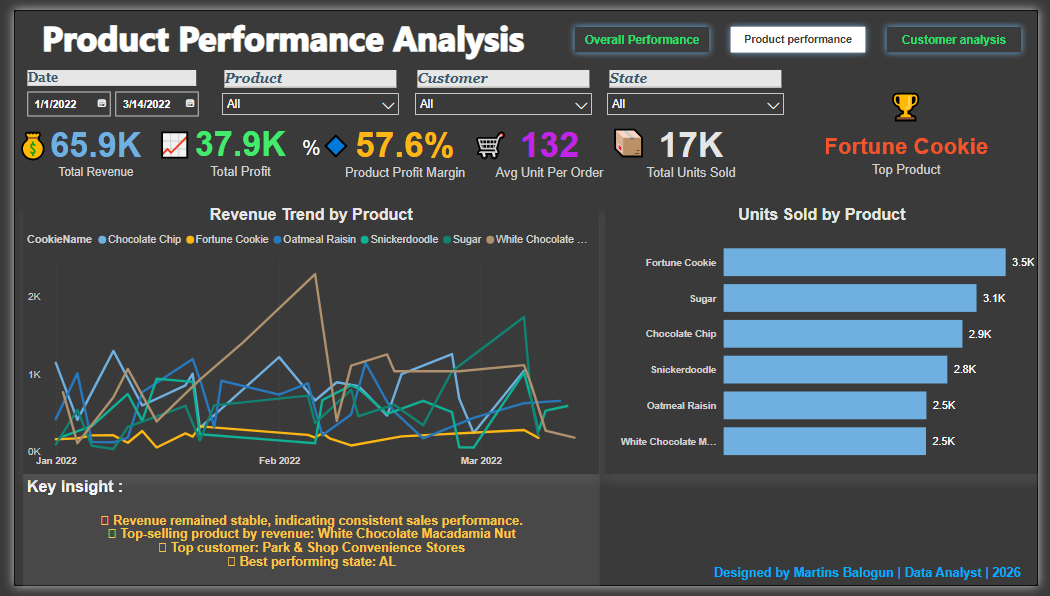

What the dashboard file says about the page in this screenshot:
{"tool":"powerbi","page":{"name":"Product performance","canvas":[1280,720],"ordinal":1},"visuals":[{"type":"textbox","box":[30.6,0,733.1,70.1],"z":0},{"type":"slicer","fields":{"Values":["Orders.OrderDate"]},"box":[3.8,70.1,237.1,151.7],"z":1000},{"type":"slicer","fields":{"Values":["Product.CookieName"]},"box":[249.9,70.1,241,70.1],"z":2000},{"type":"slicer","fields":{"Values":["Customers.CustomerName"]},"box":[490.8,70.1,241,70.1],"z":3000},{"type":"slicer","fields":{"Values":["Customers.State"]},"box":[731.8,70.1,241,70.1],"z":4000},{"type":"card","fields":{"Values":["Order_Product.Total Revenue"]},"box":[3.8,126.2,182.3,95.6],"z":5000},{"type":"card","fields":{"Values":["Order_Product.Total Profit"]},"box":[167,126.2,182.3,95.6],"z":6000},{"type":"card","fields":{"Values":["_Measures.Avg Unit Per Order"]},"box":[559.7,126.2,178.5,95.6],"z":7000},{"type":"card","fields":{"Values":["_Measures.Total Quantity Sold"]},"box":[752.2,126.2,187.4,95.6],"z":8000},{"type":"card","fields":{"Values":["_Measures.Product Profit Margin"]},"box":[362.1,126.2,197.6,95.6],"z":9000},{"type":"textbox","box":[869.5,689.7,410.5,30.6],"z":10000},{"type":"card","title":"Key Insight :","fields":{"Values":["Product.Revenue Insight"]},"box":[62.9,607.1,585.7,112.9],"z":11000},{"type":"lineChart","title":"Revenue Trend by  Product","fields":{"Y":["_Measures.Total Revenue"],"Category":["Flat File.OrderDate"],"Series":["Flat File.CookieName"]},"box":[11.5,244.8,720.3,335.3],"z":12000},{"type":"clusteredBarChart","title":"Units Sold by Product","fields":{"Category":["Flat File.CookieName"],"Y":["_Measures.Total Units Sold"]},"box":[738.2,244.8,541.8,335.3],"z":13000},{"type":"card","fields":{"Values":["_Measures.Best Selling Product"]},"box":[980.4,122.4,270.3,112.2],"z":14000},{"type":"textbox","box":[1088.8,93.1,82.9,91.8],"z":15000},{"type":"textbox","box":[0,141.5,82.9,91.8],"z":16000},{"type":"textbox","box":[740.7,137.7,82.9,91.8],"z":17000},{"type":"textbox","box":[156.8,140.2,82.9,91.8],"z":18000},{"type":"textbox","box":[549.5,140.2,82.9,91.8],"z":19000},{"type":"textbox","box":[327.6,141.5,82.9,91.8],"z":20000},{"type":"pageNavigator","box":[692.3,12.7,576.3,49.7],"z":21000}]}

Visuals, with their boxes in screenshot pixels (x1, y1, x2, y2), scaled from the page's 1280x720 canvas onto the 1050x596 screenshot:
textbox: 25, 0, 626, 58
slicer - Orders.OrderDate: 3, 58, 198, 184
slicer - Product.CookieName: 205, 58, 403, 116
slicer - Customers.CustomerName: 403, 58, 600, 116
slicer - Customers.State: 600, 58, 798, 116
card - Order_Product.Total Revenue: 3, 104, 153, 184
card - Order_Product.Total Profit: 137, 104, 287, 184
card - _Measures.Avg Unit Per Order: 459, 104, 606, 184
card - _Measures.Total Quantity Sold: 617, 104, 771, 184
card - _Measures.Product Profit Margin: 297, 104, 459, 184
textbox: 713, 571, 1049, 595
"Key Insight :" card: 52, 503, 532, 595
"Revenue Trend by  Product" lineChart: 9, 203, 600, 480
"Units Sold by Product" clusteredBarChart: 606, 203, 1049, 480
card - _Measures.Best Selling Product: 804, 101, 1026, 194
textbox: 893, 77, 961, 153
textbox: 0, 117, 68, 193
textbox: 608, 114, 676, 190
textbox: 129, 116, 197, 192
textbox: 451, 116, 519, 192
textbox: 269, 117, 337, 193
pageNavigator: 568, 11, 1041, 52
